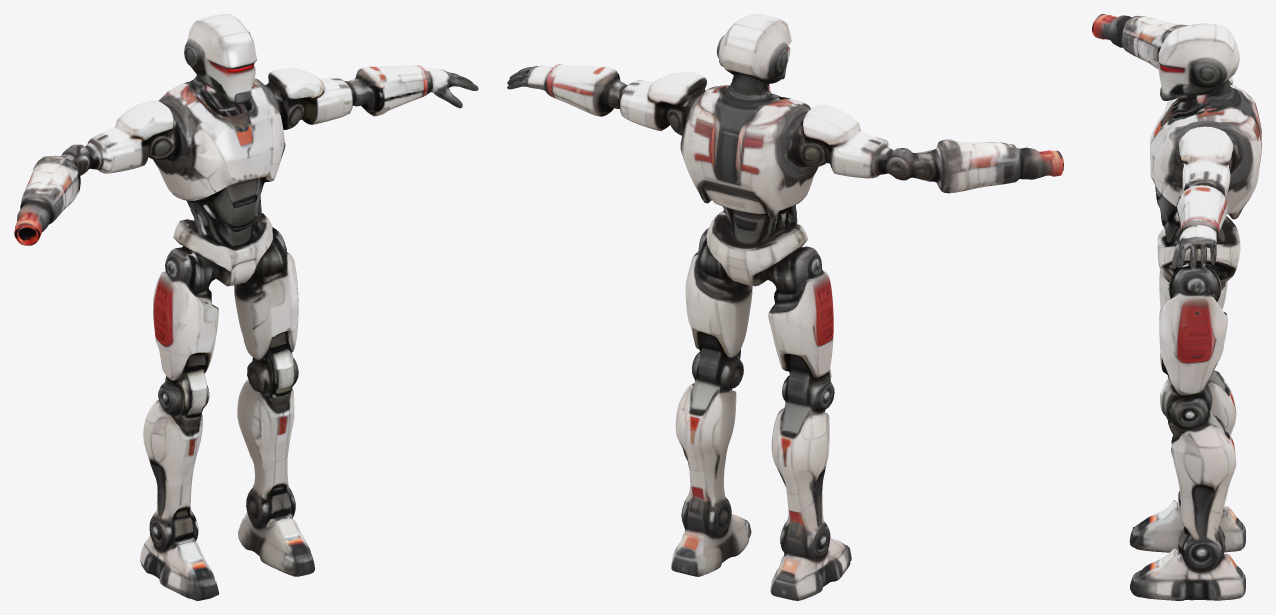
File: base_basic_shaded.fbx
3 views of the same model, side by side, from view 1: azimuth 30°, elevation 25°; view 2: azimuth 150°, elevation 25°; view 3: azimuth 270°, elevation 25° (orthographic). The views are drawn at different scales.
Visible parts, largest first — view 1: model; view 2: model; view 3: model.
Part boxes in pixels (<box>): model: <box>14,14,478,600</box>; model: <box>507,14,1063,600</box>; model: <box>1092,14,1261,600</box>.
Bounding box in the file's own units: 184 × 190 × 54.15.
